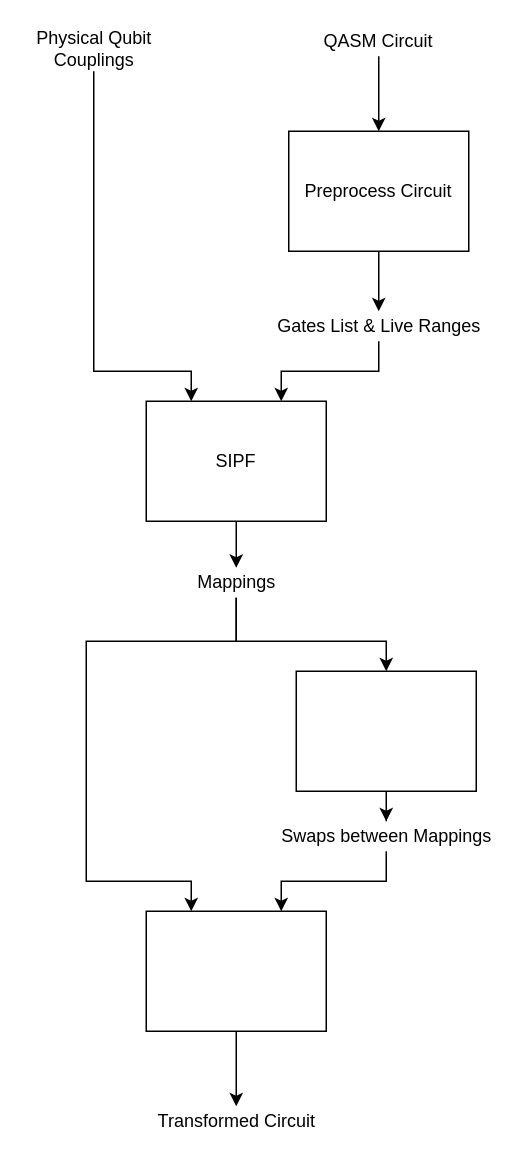
Some shapes in this 531 by 1161 pixel diagram are drawn without their labels. Each missing label, with the box of its shape:
Calculate Swaps: (295, 670, 476, 791)
Compile Circuit: (145, 910, 326, 1031)
